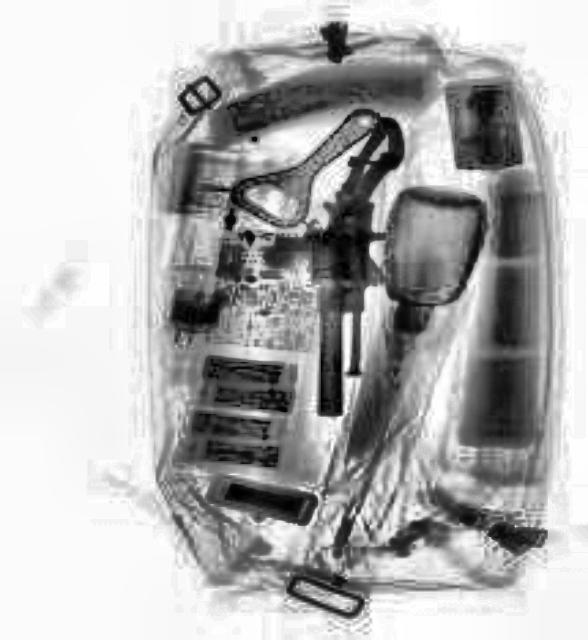Gun: (305, 112, 405, 414)
